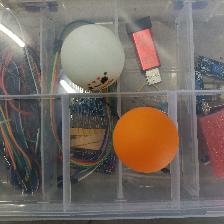WhiteBall: (60, 23, 124, 91)
YellowBall: (112, 106, 179, 172)
